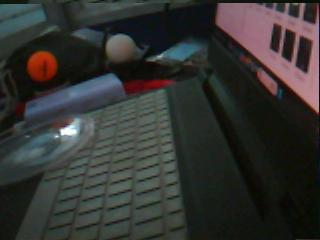oball: (27, 51, 57, 80)
